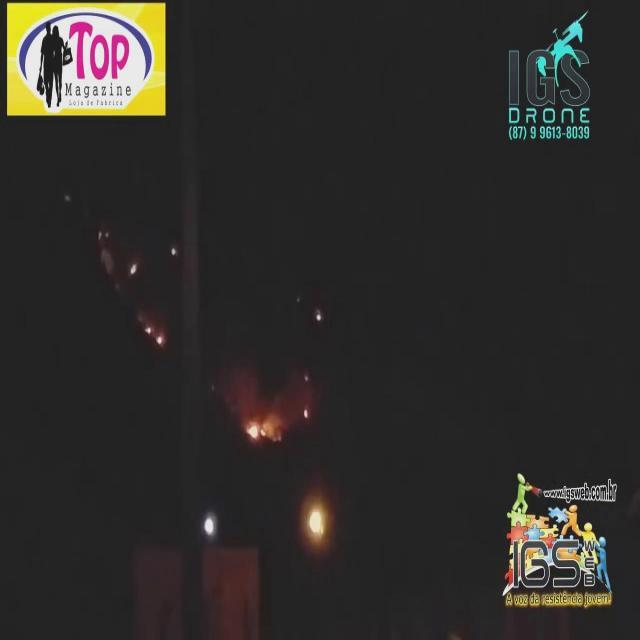Fire: (249, 422, 263, 442)
